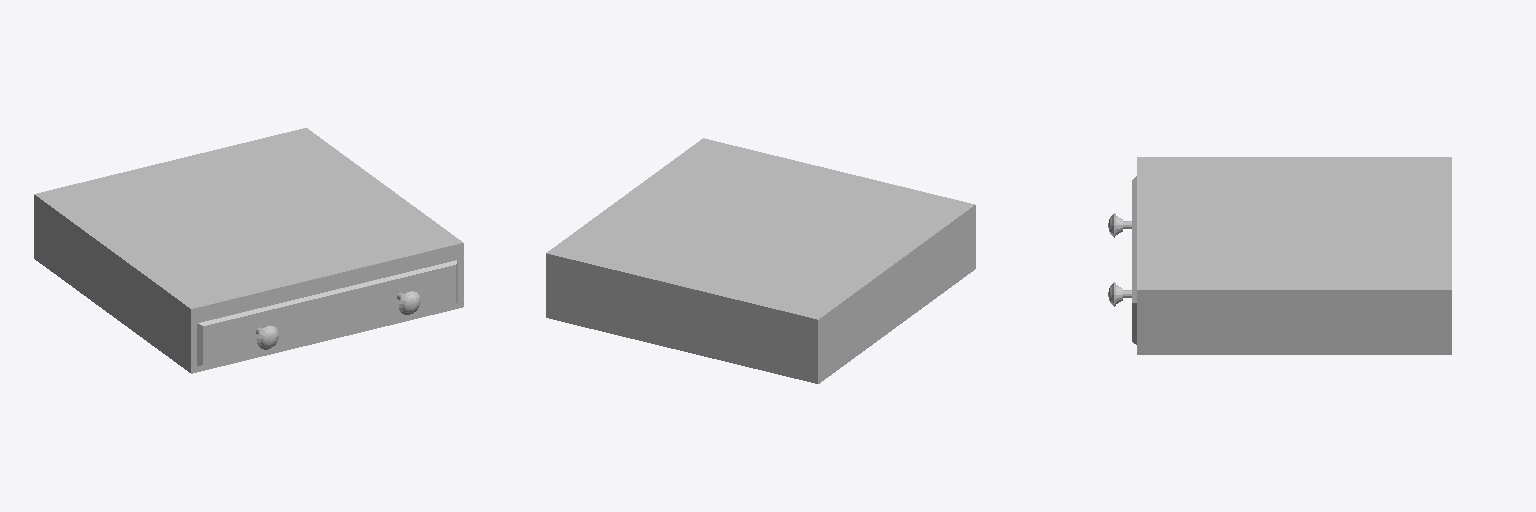
Rendered from sideTableShelf_3.obj.
3 views of the same model, side by side, from view 1: azimuth 30°, elevation 25°; view 2: azimuth 150°, elevation 25°; view 3: azimuth 270°, elevation 25° (orthographic).
Bounding box in the file's own units: 7.37 × 1.67 × 8.04.